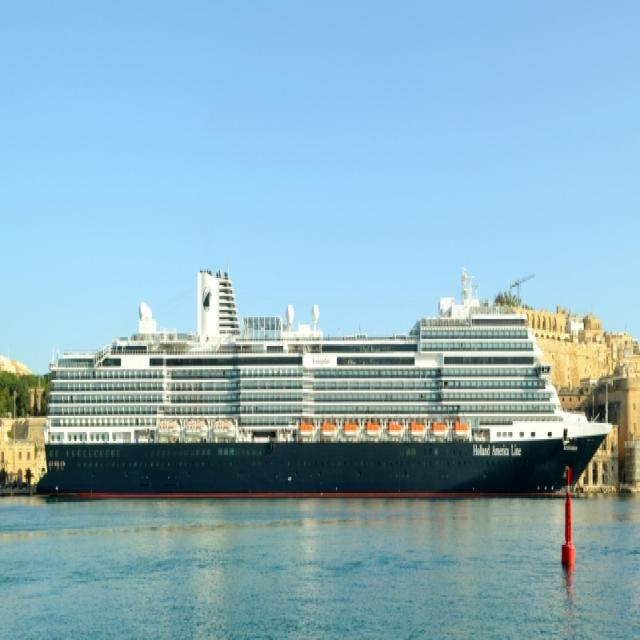cruises: (32, 265, 617, 514)
